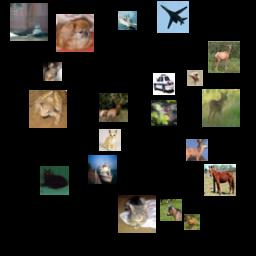airplane: (157, 1, 189, 33)
automobile: (153, 73, 175, 95)
bird: (187, 70, 203, 86)
cat: (118, 195, 156, 233), (40, 166, 69, 195), (43, 62, 62, 81)
deer: (202, 89, 240, 127), (208, 41, 240, 73), (99, 93, 128, 122), (151, 100, 177, 126), (160, 199, 182, 221), (186, 139, 208, 161), (184, 214, 200, 230)
dog: (56, 14, 94, 52), (99, 129, 121, 151)
frog: (29, 90, 67, 128)
ship: (10, 3, 48, 41), (88, 155, 117, 184), (118, 11, 137, 30)
